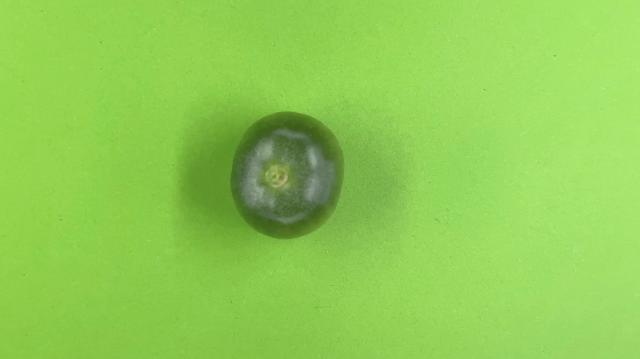Fruit Maturation: (228, 110, 345, 240)
